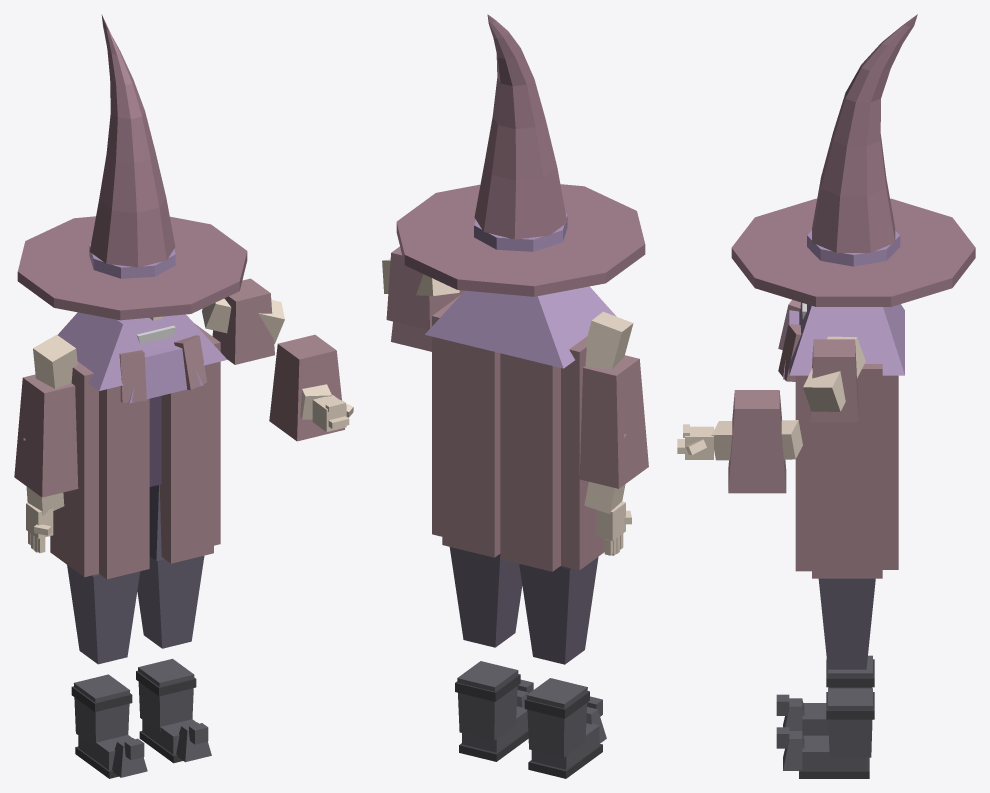
The model's file is avatar-wizard.glb.
3 views of the same model, side by side, from view 1: azimuth 30°, elevation 25°; view 2: azimuth 150°, elevation 25°; view 3: azimuth 270°, elevation 25° (orthographic). The views are drawn at different scales.
Visible parts, largest first — view 1: AVT_W_Hat_Brim, AVT_W_Hat_Cone, AVT_W_Robe_Front_R, AVT_W_Robe_Front_L, AVT_W_Robe_Sleeve_L, AVT_W_Robe_Side_L, AVT_W_Robe_Cowl, AVT_W_Body_Shin_L, AVT_W_Robe_Sleeve_R_Fore, AVT_W_Body_Shin_R, AVT_W_Robe_Sleeve_R_Upper, AVT_W_Boots_Shaft_L (+20 smaller); view 2: AVT_W_Hat_Brim, AVT_W_Robe_Back_L, AVT_W_Hat_Cone, AVT_W_Robe_Back_R, AVT_W_Robe_Cowl, AVT_W_Robe_Sleeve_L, AVT_W_Body_Shin_L, AVT_W_Robe_Side_L, AVT_W_Body_Shin_R, AVT_W_Boots_Shaft_R, AVT_W_Boots_Shaft_L, AVT_W_Robe_Sleeve_R_Upper (+13 smaller); view 3: AVT_W_Hat_Brim, AVT_W_Robe_Side_R, AVT_W_Hat_Cone, AVT_W_Robe_Sleeve_R_Fore, AVT_W_Robe_Cowl, AVT_W_Body_Shin_R, AVT_W_Robe_Back_R, AVT_W_Robe_Front_R, AVT_W_Boots_Shaft_R, AVT_W_Robe_Sleeve_R_Upper, AVT_W_Body_UpperArm_R, AVT_W_Boots_Foot_R (+11 smaller).
Part boxes in pixels (x1,y1,x2,y2): AVT_W_Hat_Brim: (17,216,247,320); AVT_W_Hat_Cone: (89,14,175,267); AVT_W_Robe_Front_R: (159,363,213,563); AVT_W_Robe_Front_L: (99,386,149,579); AVT_W_Robe_Sleeve_L: (14,374,78,497); AVT_W_Robe_Side_L: (50,361,98,577); AVT_W_Robe_Cowl: (57,312,227,390); AVT_W_Body_Shin_L: (67,565,140,664); AVT_W_Robe_Sleeve_R_Fore: (269,334,344,441); AVT_W_Body_Shin_R: (137,556,204,648); AVT_W_Robe_Sleeve_R_Upper: (212,278,274,364); AVT_W_Boots_Shaft_L: (73,674,129,747); AVT_W_Hat_Brim: (396,184,645,296); AVT_W_Robe_Back_L: (500,353,560,571); AVT_W_Hat_Cone: (474,14,567,239); AVT_W_Robe_Back_R: (442,339,500,557); AVT_W_Robe_Cowl: (425,286,616,368); AVT_W_Robe_Sleeve_L: (579,355,648,488); AVT_W_Body_Shin_L: (519,557,598,664); AVT_W_Robe_Side_L: (561,336,604,570); AVT_W_Body_Shin_R: (449,547,522,647); AVT_W_Boots_Shaft_R: (457,661,518,740); AVT_W_Boots_Shaft_L: (526,678,587,757); AVT_W_Robe_Sleeve_R_Upper: (386,246,454,329); AVT_W_Hat_Brim: (731,198,975,306); AVT_W_Robe_Side_R: (812,364,882,578); AVT_W_Hat_Cone: (812,14,917,252); AVT_W_Robe_Sleeve_R_Fore: (728,390,786,493); AVT_W_Robe_Cowl: (789,302,904,375); AVT_W_Body_Shin_R: (818,578,875,669); AVT_W_Robe_Back_R: (882,375,898,569); AVT_W_Robe_Front_R: (795,375,811,571); AVT_W_Boots_Shaft_R: (828,688,872,757); AVT_W_Robe_Sleeve_R_Upper: (810,339,858,422); AVT_W_Body_UpperArm_R: (803,336,865,411); AVT_W_Boots_Foot_R: (802,735,866,770).
Size of the model in its own units: 0.96 by 2.54 by 0.929.
